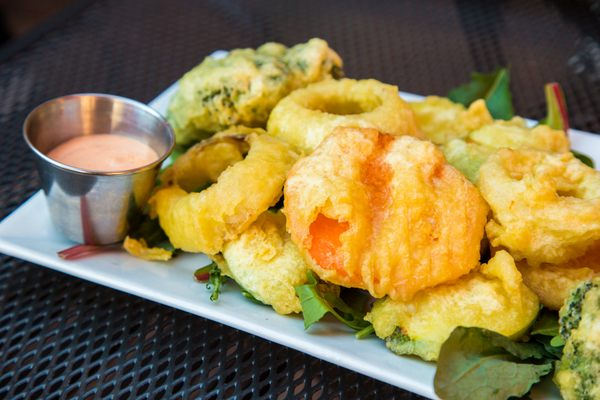curry: (552, 278, 600, 396)
